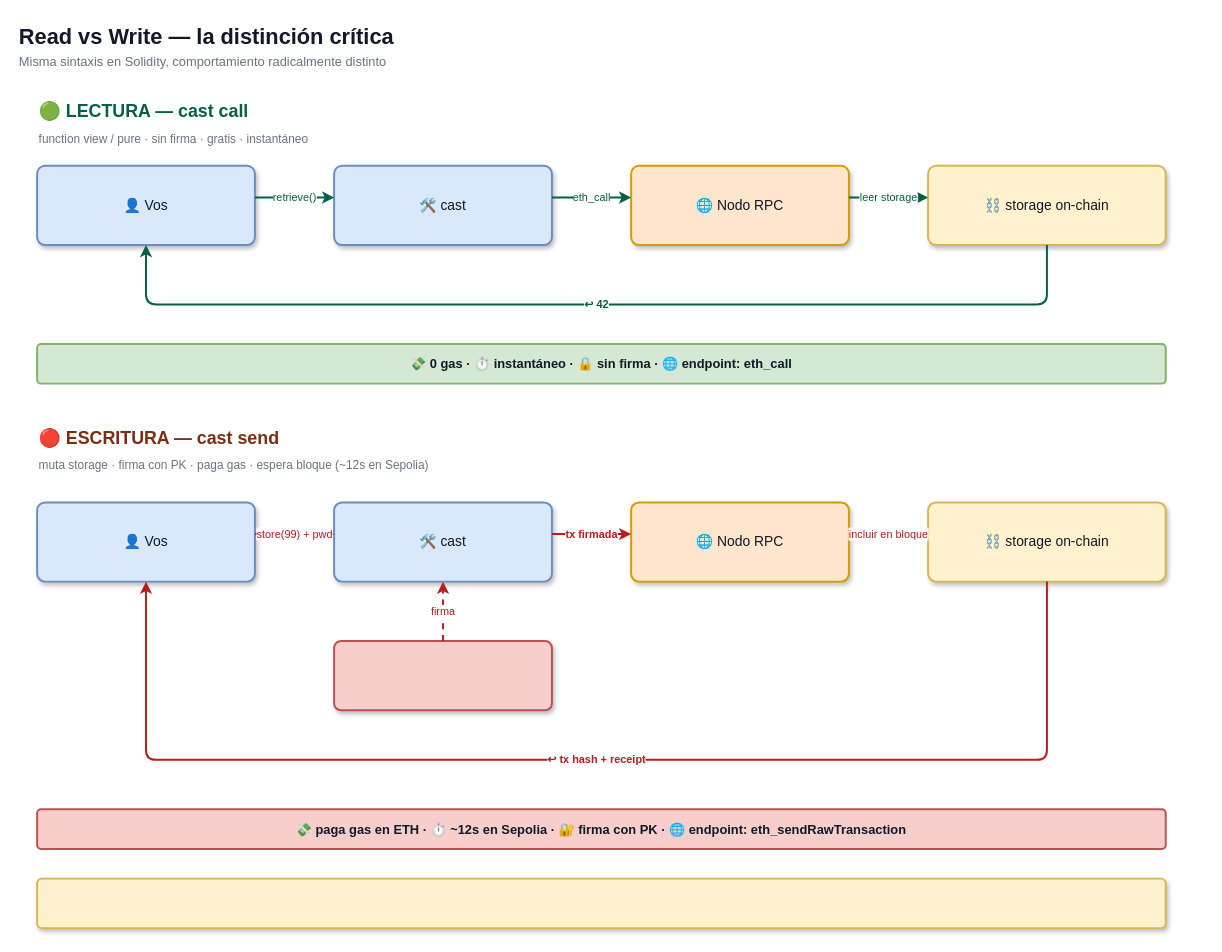
The diagram is 1222 pixels wide and 952 high, and some of its shapes have lost their labels. The centre of each missing label's shape, as x and y in pixels:
🎯 Regla: función con view o pure → cast call. Cualquier otra cosa → cast send.: point (602, 904)
🔐 keystore (firma con PK encriptada): point (443, 677)
